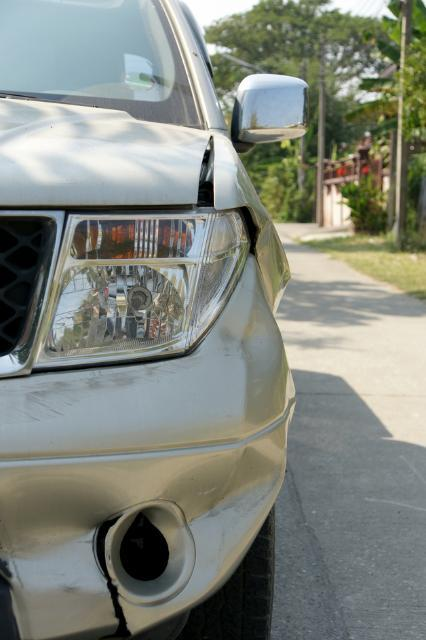Bonnet: (0, 129, 210, 203)
Bumper: (4, 334, 274, 640)
Fender: (199, 133, 306, 300)
